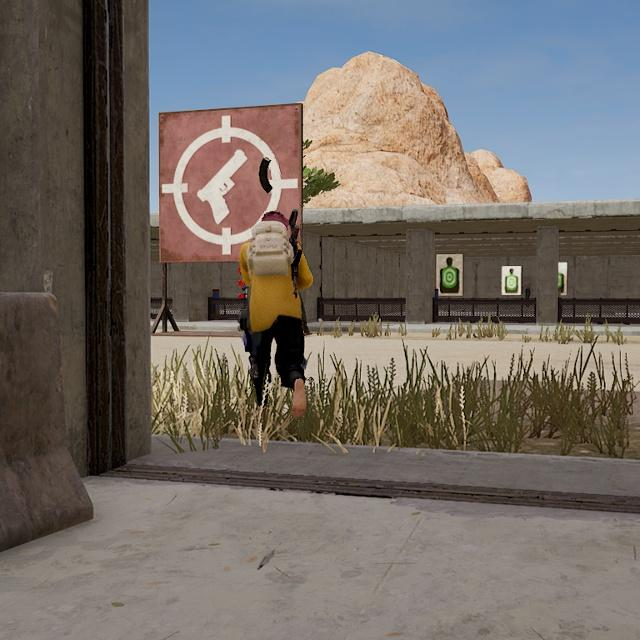head: (259, 206, 300, 245)
people: (230, 200, 334, 425)
